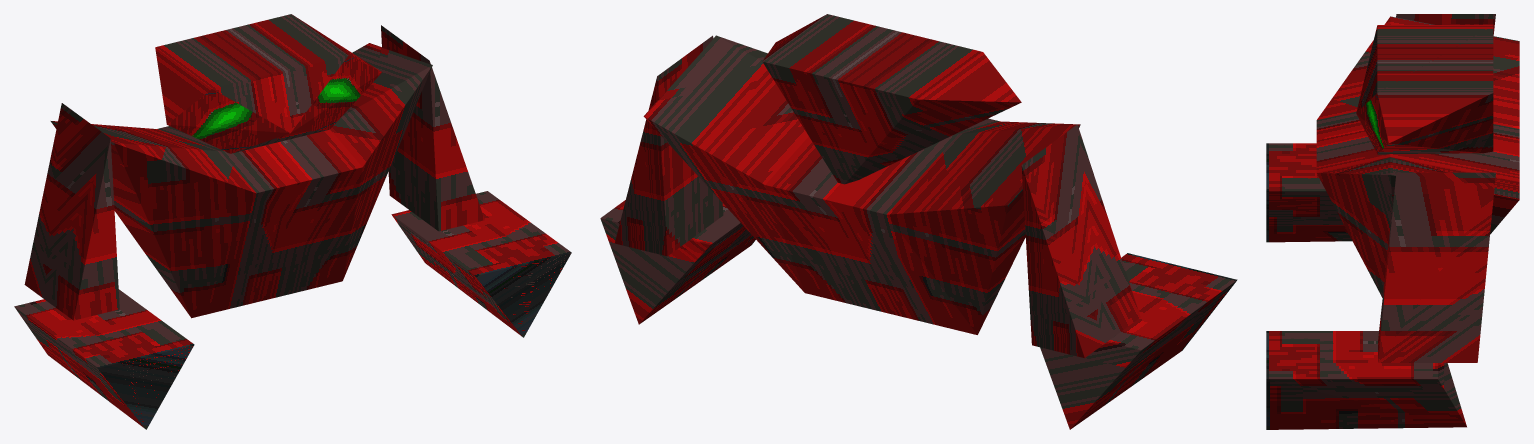
The model's file is model_027_robot_noname.glb.
3 renders of one model, left to right at view 1: azimuth 30°, elevation 25°; view 2: azimuth 150°, elevation 25°; view 3: azimuth 270°, elevation 25°, orthographic. The views are drawn at different scales.
Parts seen in each view (by area): view 1: model_027; view 2: model_027; view 3: model_027.
Boxes of the visible parts, x1,y1,x2,y2 form: model_027: [14, 14, 571, 429]; model_027: [600, 14, 1237, 429]; model_027: [1266, 14, 1519, 429].
Size of the model in its own units: 12 by 6.58 by 5.46.
2 materials, 2 textured.
